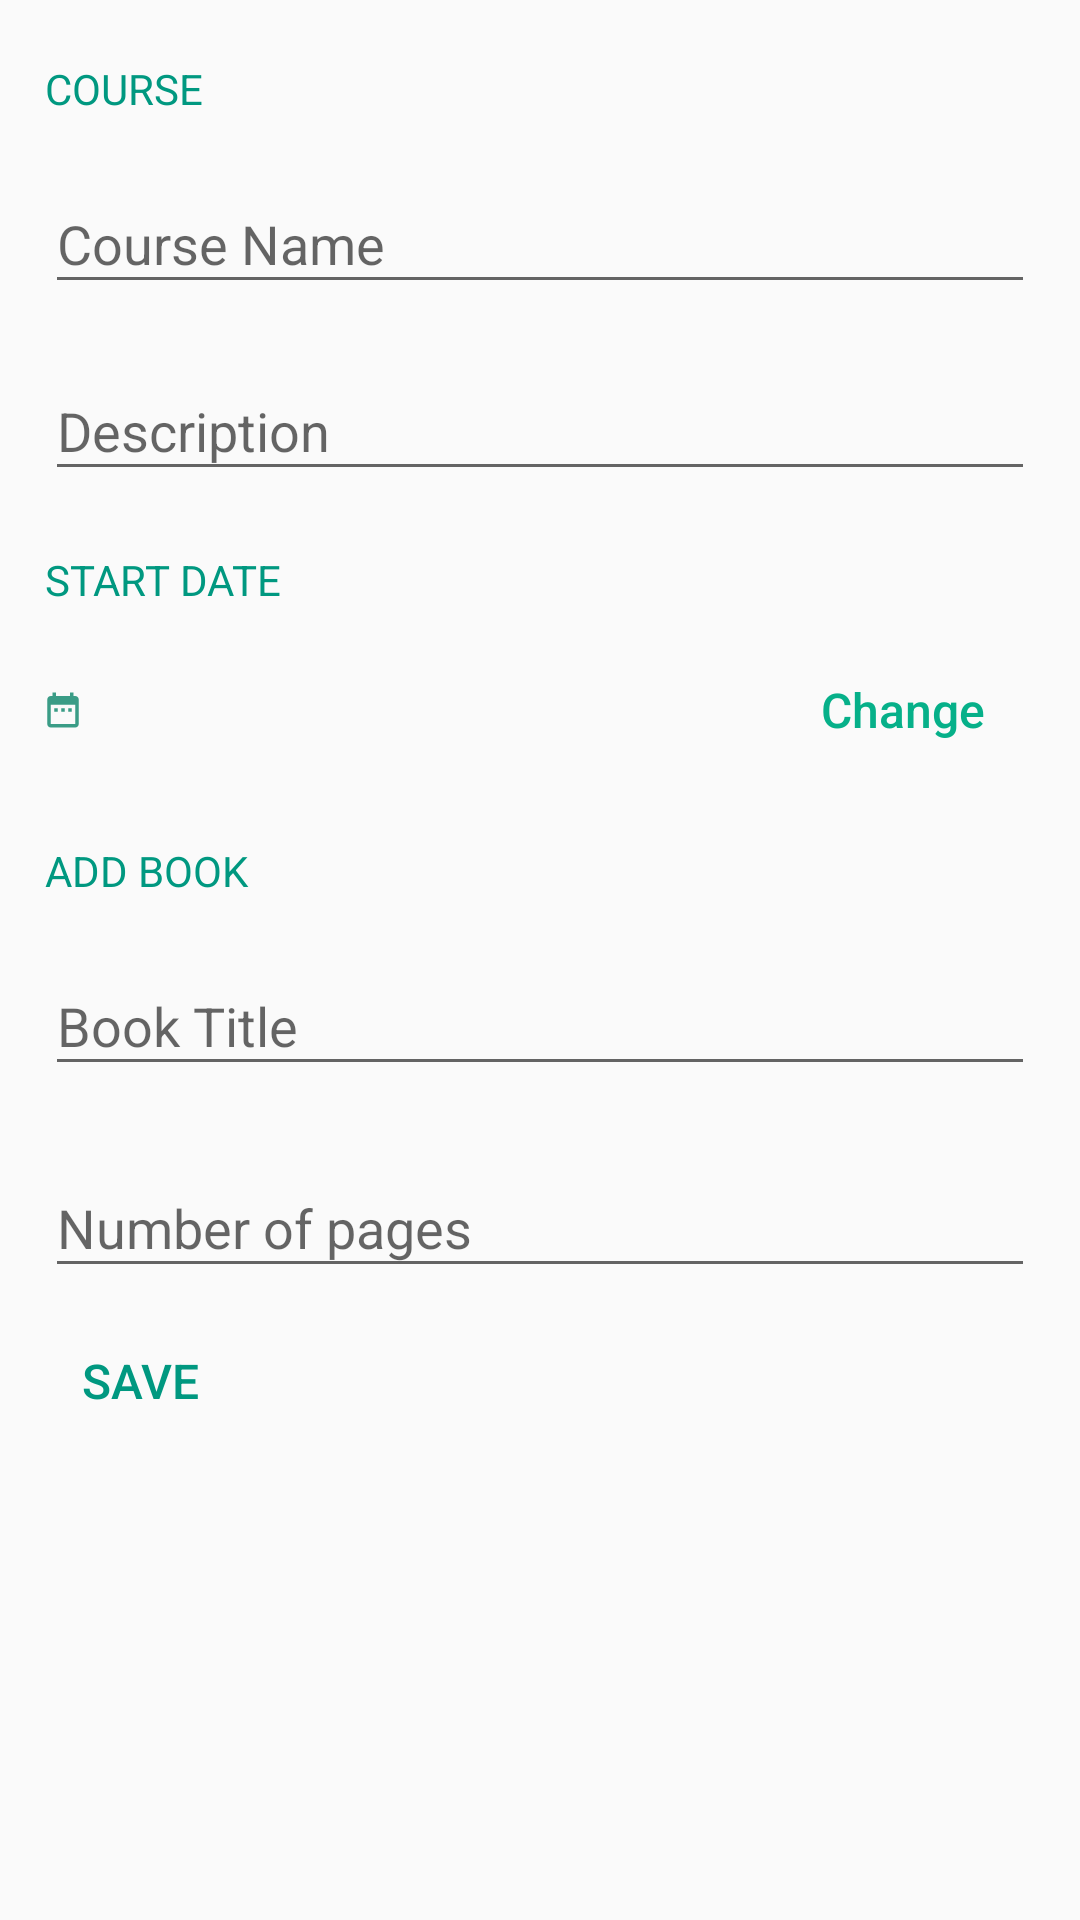

Icon click points for this 1080 x 1920 phone screenshot, format [x,y]:
cal: [63,710]
